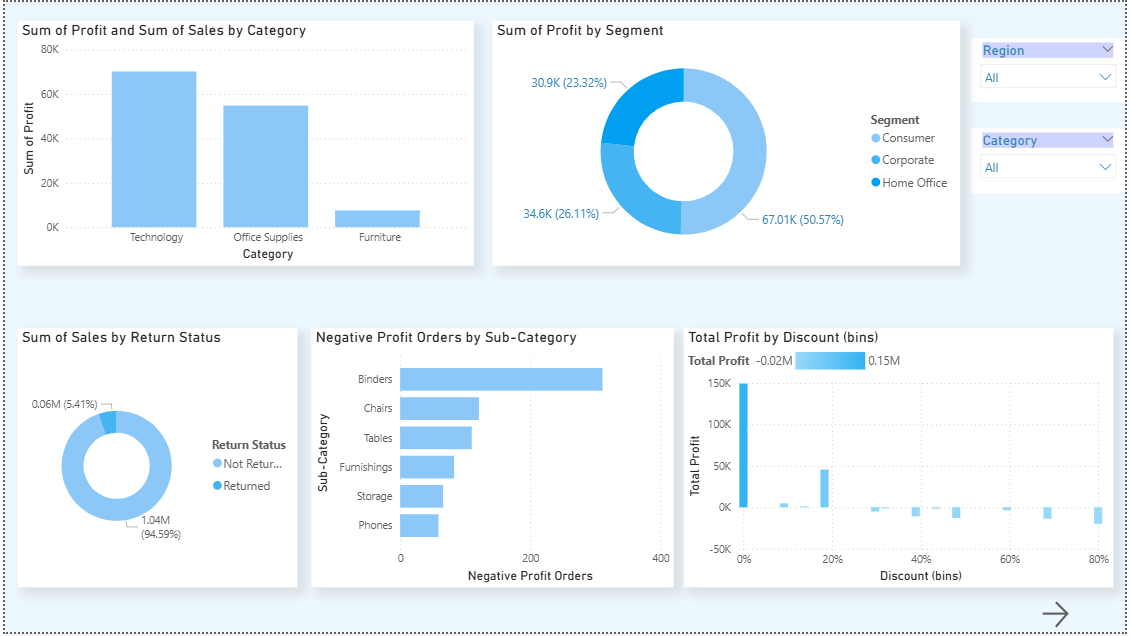

What the dashboard file says about the page in this screenshot:
{"tool":"powerbi","page":{"name":"Page 1","canvas":[1280,720],"ordinal":1},"visuals":[{"type":"slicer","fields":{"Values":["Orders.Category"]},"box":[1104.6,144.1,175.6,74.1],"z":1000},{"type":"slicer","fields":{"Values":["Orders.Region"]},"box":[1104.6,41.2,175.6,72.7],"z":2000},{"type":"donutChart","fields":{"Category":["Orders.Segment"],"Y":["Sum(Orders.Profit)"]},"box":[557.1,21.4,534.3,280],"z":3000},{"type":"actionButton","box":[1180,680,100,40],"z":5000},{"type":"columnChart","fields":{"Category":["Orders.Category"],"Y":["Sum(Orders.Profit)"]},"box":[14.3,21.4,521.4,280],"z":5001},{"type":"clusteredBarChart","fields":{"Category":["Orders.Sub-Category"],"Y":["Orders.Negative Profit Orders"]},"box":[350,372.9,414.3,295.7],"z":5002},{"type":"clusteredColumnChart","fields":{"Category":["Orders.Discount (bins)"],"Y":["Orders.Total Profit"]},"box":[775.7,372.9,491.4,295.7],"z":5003},{"type":"donutChart","fields":{"Category":["Orders.Return Status"],"Y":["Sum(Orders.Sales)"]},"box":[14.3,372.9,320,295.7],"z":5004}]}

Visuals, with their boxes in screenshot pixels (x1, y1, x2, y2), scaled from the page's 1280x720 canvas onto the 1130x636 screenshot:
slicer - Orders.Category: box=[975, 127, 1129, 193]
slicer - Orders.Region: box=[975, 36, 1129, 101]
donutChart - Orders.Segment x Sum(Orders.Profit): box=[492, 19, 964, 266]
actionButton: box=[1042, 601, 1129, 635]
columnChart - Orders.Category x Sum(Orders.Profit): box=[13, 19, 473, 266]
clusteredBarChart - Orders.Sub-Category x Orders.Negative Profit Orders: box=[309, 329, 675, 591]
clusteredColumnChart - Orders.Discount (bins) x Orders.Total Profit: box=[685, 329, 1119, 591]
donutChart - Orders.Return Status x Sum(Orders.Sales): box=[13, 329, 295, 591]
